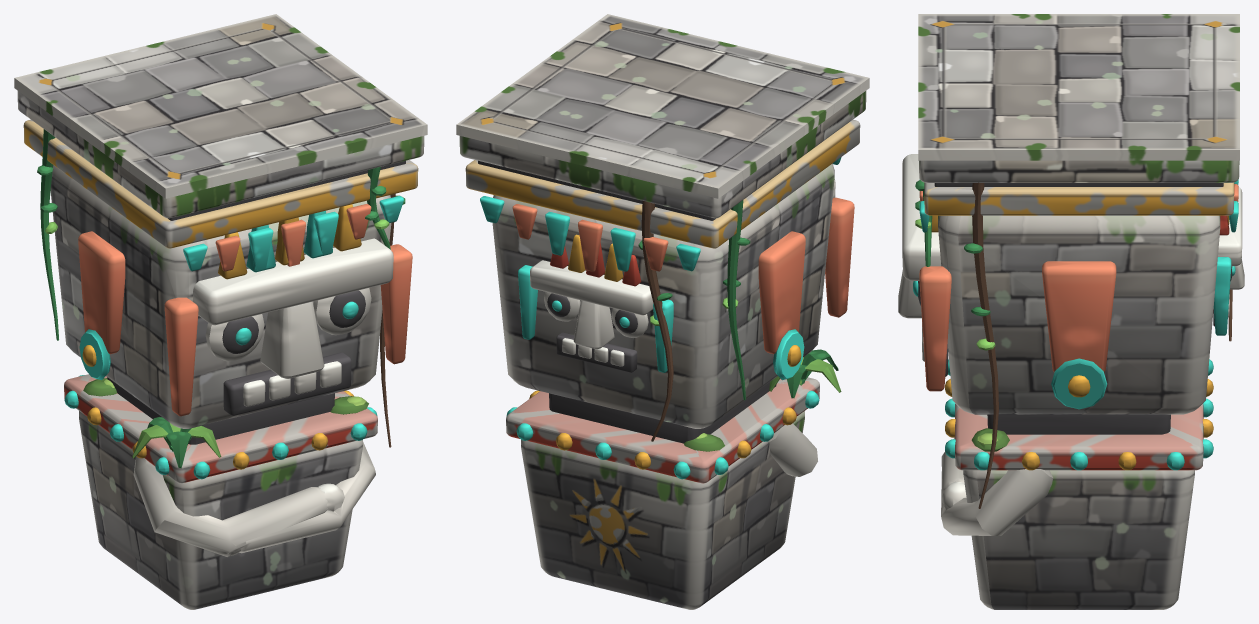
Rendered from tower_head.glb.
3 views of the same model, side by side, from view 1: azimuth 30°, elevation 25°; view 2: azimuth 150°, elevation 25°; view 3: azimuth 270°, elevation 25° (orthographic). The views are drawn at different scales.
Visible parts, largest first — view 1: tower_head.001; view 2: tower_head.001; view 3: tower_head.001.
Part boxes in pixels (<box>): tower_head.001: <box>14,14,427,609</box>; tower_head.001: <box>456,14,869,609</box>; tower_head.001: <box>898,14,1244,609</box>.
Bounding box in the file's own units: 8.33 × 13.5 × 8.62.
Materials: 1 (1 with a texture image).
